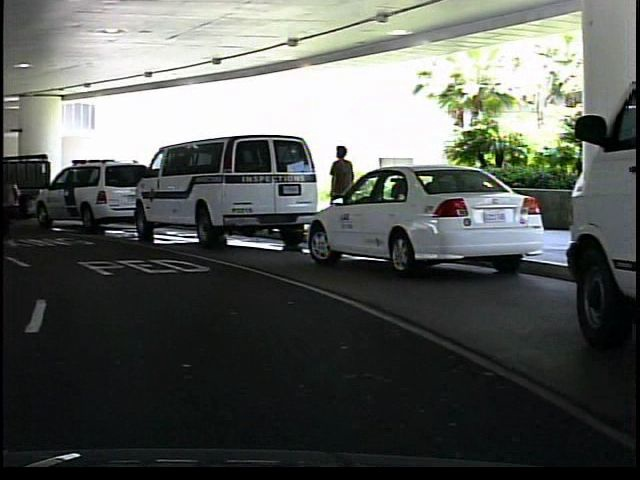person: (322, 142, 358, 236)
